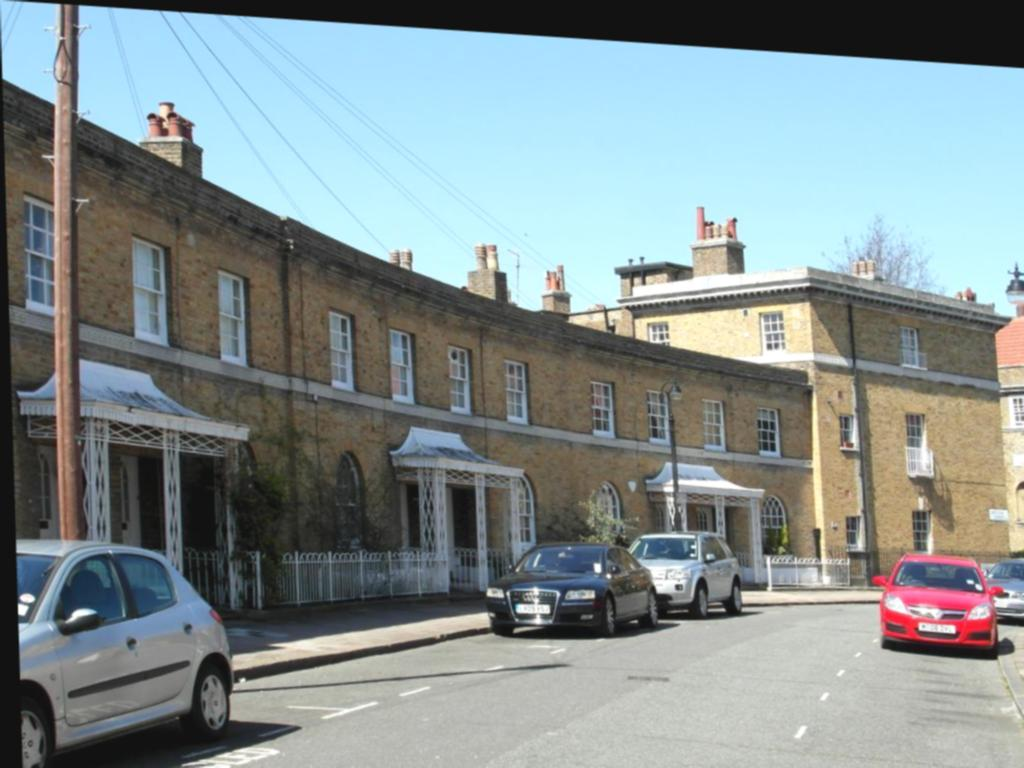License_Plate: (921, 621, 956, 637), (514, 603, 550, 616)
